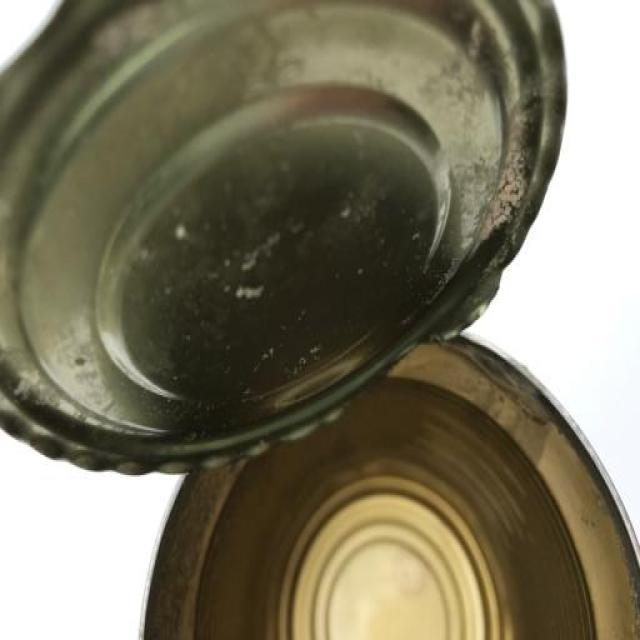metal: (0, 0, 569, 477), (136, 334, 639, 638)
